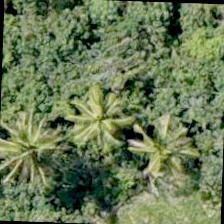Kelapa_Sawit: (126, 106, 219, 200), (66, 85, 159, 178), (0, 100, 57, 193)
